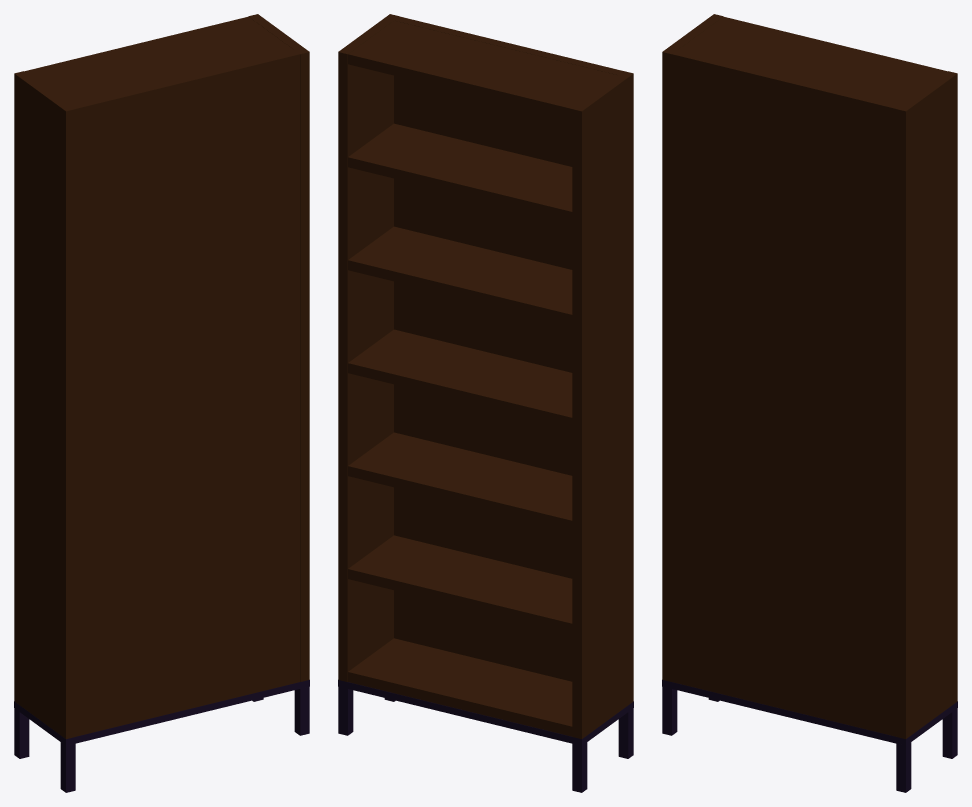
Rendered from HomeOffice_Bookshelf.glb.
3 views of the same model, side by side, from view 1: azimuth 30°, elevation 25°; view 2: azimuth 150°, elevation 25°; view 3: azimuth 330°, elevation 25° (orthographic).
Parts seen in each view (by area): view 1: Back; view 2: Back; view 3: Back.
Boxes of the visible parts, left/top/right/bottom form: Back: left=14, top=14, right=309, bottom=792; Back: left=338, top=14, right=633, bottom=792; Back: left=662, top=14, right=957, bottom=792.
Size of the model in its own units: 0.76 by 2.03 by 0.2801.
2 materials, 1 textured.
